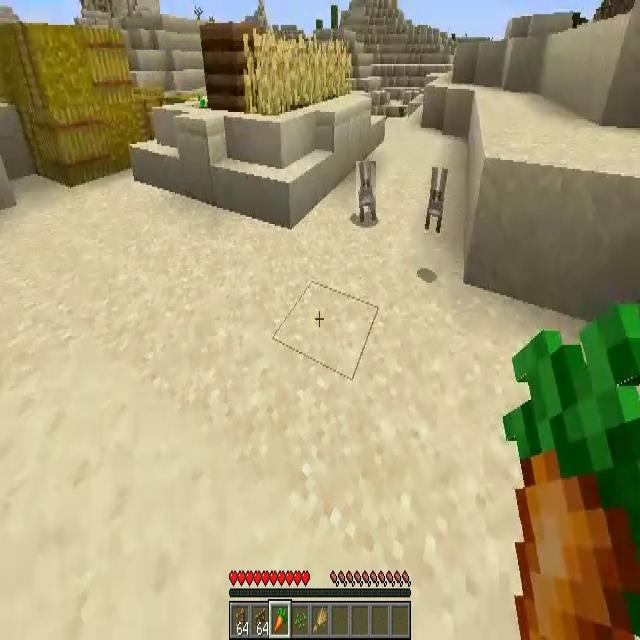rabbit: (422, 166, 448, 234), (356, 161, 376, 226)
